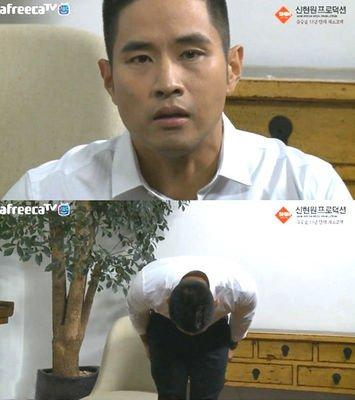bending: (118, 253, 257, 400)
